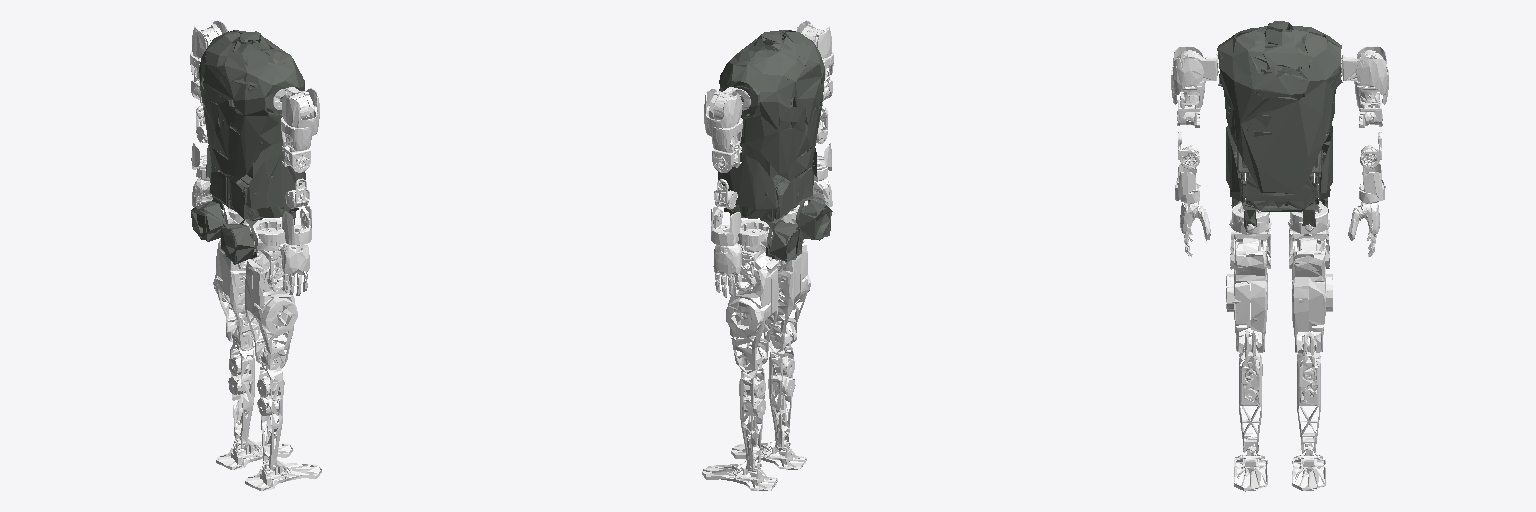
--- What the picture shows (computed from the rendered views, not written in the file) ---
The picture shows the robot from 3 angles, left to right: view 1: azimuth 30°, elevation 25°; view 2: azimuth 150°, elevation 25°; view 3: azimuth 270°, elevation 25°; orthographic projection.
Model biped_v3_full with 27 links and 26 joints (26 revolute), rooted at torso, posed all joints at 0.
Links seen in each view (by area): view 1: torso, leg_r3_link, leg_l3_link, leg_l4_link, leg_r4_link, zarm_r7_link, leg_r6_link, leg_l6_link, zarm_r2_link, leg_r1_link, zarm_l7_link, zarm_r1_link (+3 smaller); view 2: torso, leg_l3_link, leg_r3_link, leg_l4_link, leg_r4_link, zarm_l7_link, leg_l6_link, leg_r6_link, zarm_l2_link, leg_l1_link, zarm_r7_link, zarm_l1_link (+3 smaller); view 3: torso, leg_l3_link, leg_r3_link, leg_r4_link, leg_l4_link, zarm_l7_link, zarm_r7_link, leg_l6_link, leg_r6_link, zarm_r2_link, zarm_l2_link, leg_r1_link (+6 smaller).
Boxes of the visible links, x1,y1,x2,y2 form: torso: [191, 30, 305, 264]; leg_r3_link: [245, 254, 297, 371]; leg_l3_link: [213, 239, 260, 350]; leg_l4_link: [228, 322, 254, 448]; leg_r4_link: [257, 343, 284, 470]; zarm_r7_link: [281, 206, 311, 295]; leg_r6_link: [245, 459, 321, 490]; leg_l6_link: [216, 438, 292, 469]; zarm_r2_link: [282, 88, 319, 136]; leg_r1_link: [246, 219, 285, 251]; zarm_l7_link: [191, 143, 212, 207]; zarm_r1_link: [273, 87, 314, 119]; torso: [718, 30, 832, 261]; leg_l3_link: [726, 254, 778, 373]; leg_r3_link: [764, 240, 810, 352]; leg_l4_link: [739, 344, 765, 471]; leg_r4_link: [768, 323, 795, 450]; zarm_l7_link: [711, 206, 741, 297]; leg_l6_link: [702, 460, 777, 490]; leg_r6_link: [731, 440, 806, 469]; zarm_l2_link: [704, 89, 741, 136]; leg_l1_link: [737, 220, 772, 251]; zarm_r7_link: [806, 143, 832, 207]; zarm_l1_link: [709, 87, 750, 119]; torso: [1217, 21, 1342, 233]; leg_l3_link: [1292, 238, 1332, 352]; leg_r3_link: [1226, 238, 1267, 352]; leg_r4_link: [1239, 330, 1262, 453]; leg_l4_link: [1297, 331, 1320, 453]; zarm_l7_link: [1348, 163, 1385, 256]; zarm_r7_link: [1175, 162, 1210, 256]; leg_l6_link: [1292, 443, 1325, 490]; leg_r6_link: [1234, 444, 1267, 491]; zarm_r2_link: [1171, 46, 1203, 95]; zarm_l2_link: [1356, 46, 1388, 95]; leg_r1_link: [1229, 198, 1271, 235].
Bounding box of the posed robot: 0.3173 × 0.6499 × 1.45 m (x, y, z).
25 mesh visuals loaded from 27 distinct referenced files (25 binary STL); not drawn: 2 (reference not matched to a file when rendering).

The robot description file, URDF, robot "biped_v3_full":
<?xml version="1.0" ?>
<!-- =================================================================================== -->
<!-- |    This document was autogenerated by xacro from [local-path]/workspace/kuavo-ros-control/src/humanoid-control/humanoid_interface_drake/models/biped_gen4.2/urdf/biped_v3_full.xacro | -->
<!-- |    EDITING THIS FILE BY HAND IS NOT RECOMMENDED                                 | -->
<!-- =================================================================================== -->
<robot name="biped_v3_full" xmlns:drake="https://drake.mit.edu">
  <link name="torso">
    <inertial>
      <origin xyz="-0.0185005 0.00031952 0.1929569" rpy="0 0 0" />
      <mass value="24.13733803" />
      <inertia ixx="0.93103133" ixy="0.00011763" ixz="-0.07210993" iyy="0.82590532" iyz="6.88e-06" izz="0.27686612" />
    </inertial>
    <visual>
      <origin rpy="0 0 0" xyz="0 0 0"/>
      <geometry>
        <mesh filename="../../meshes/torso.STL"/>
      </geometry>
      <material name="">
        <color rgba="0.43137 0.45098 0.43137 1"/>
      </material>
    </visual>
    <!-- <collision>
      <origin xyz="0 0 0" rpy="0 0 0" />
      <geometry>
        <mesh filename="../../meshes/torso.STL" />
      </geometry>
    </collision> -->
  </link>
  <link name="leg_l1_link">
    <inertial>
      <origin xyz="-0.00430148 -2.708e-05 -0.00851195" rpy="0 0 0" />
      <mass value="1.71093115" />
      <inertia ixx="0.00206092" ixy="1.97e-06" ixz="6.944e-05" iyy="0.00277274" iyz="-5.1e-06" izz="0.00370826" />
    </inertial>
    <visual>
      <origin xyz="0 0 0" rpy="0 0 0" />
      <geometry>
        <mesh filename="../../meshes/l_leg_roll.STL" />
      </geometry>
      <material name="">
        <color rgba="1 1 1 1" />
      </material>
    </visual>
  </link>
  <joint name="leg_l1_joint" type="revolute">
    <origin xyz="-0.0024999 0.087 -0.066" rpy="0 0 0" />
    <parent link="torso" />
    <child link="leg_l1_link" />
    <axis xyz="1 0 0" />
    <limit lower="-0.314159265358979" upper="0.663225115757845" effort="180.0" velocity="23.55" />
  </joint>
  <transmission type="SimpleTransmission">
    <joint name="leg_l1_joint" />
    <actuator name="leg_l1_joint_motor" />
  </transmission>
  <link name="leg_l2_link">
    <inertial>
      <origin xyz="0.0 -0.00231118 -0.09062539" rpy="0 0 0" />
      <mass value="0.58029165" />
      <inertia ixx="0.00223984" ixy="0.0" ixz="3e-08" iyy="0.00123175" iyz="-6.98e-06" izz="0.00146391" />
    </inertial>
    <visual>
      <origin xyz="0 0 0" rpy="0 0 0" />
      <geometry>
        <mesh filename="../../meshes/l_leg_yaw.STL" />
      </geometry>
      <material name="">
        <color rgba="1 1 1 1" />
      </material>
    </visual>
  </link>
  <joint name="leg_l2_joint" type="revolute">
    <origin xyz="0 0 0" rpy="0 0 0" />
    <parent link="leg_l1_link" />
    <child link="leg_l2_link" />
    <axis xyz="0 0 1" />
    <limit lower="-0.872664625997165" upper="0.785398163397448" effort="100.0" velocity="41.3433333333333" />
  </joint>
  <transmission type="SimpleTransmission">
    <joint name="leg_l2_joint" />
    <actuator name="leg_l2_joint_motor" />
  </transmission>
  <link name="leg_l3_link">
    <inertial>
      <origin xyz="0.00150537 0.01199614 -0.08411619" rpy="0 0 0" />
      <mass value="4.50393141" />
      <inertia ixx="0.0389365" ixy="7.866e-05" ixz="0.00102086" iyy="0.03942609" iyz="0.00219138" izz="0.00999961" />
    </inertial>
    <visual>
      <origin xyz="0 0 0" rpy="0 0 0" />
      <geometry>
        <mesh filename="../../meshes/l_leg_pitch.STL" />
      </geometry>
      <material name="">
        <color rgba="1 1 1 1" />
      </material>
    </visual>
  </link>
  <joint name="leg_l3_joint" type="revolute">
    <origin xyz="0.000500354536093913 -0.00100000000000011 -0.1287" rpy="0 0 0" />
    <parent link="leg_l2_link" />
    <child link="leg_l3_link" />
    <axis xyz="0 1 0" />
    <limit lower="-2.00712863979348" upper="1.5707963267949" effort="100.0" velocity="41.3433333333333" />
  </joint>
  <transmission type="SimpleTransmission">
    <joint name="leg_l3_joint" />
    <actuator name="leg_l3_joint_motor" />
  </transmission>
  <link name="leg_l4_link">
    <inertial>
      <origin xyz="0.00696242 5.314e-05 -0.11549851" rpy="0 0 0" />
      <mass value="1.62776815" />
      <inertia ixx="0.01243912" ixy="-2.29e-06" ixz="5.881e-05" iyy="0.01229563" iyz="-2.895e-05" izz="0.00097937" />
    </inertial>
    <visual>
      <origin xyz="0 0 0" rpy="0 0 0" />
      <geometry>
        <mesh filename="../../meshes/l_knee.STL" />
      </geometry>
      <material name="">
        <color rgba="1 1 1 1" />
      </material>
    </visual>
  </link>
  <joint name="leg_l4_joint" type="revolute">
    <origin xyz="-6.87185435835039E-05 0 -0.284" rpy="0 0 0" />
    <parent link="leg_l3_link" />
    <child link="leg_l4_link" />
    <axis xyz="0 1 0" />
    <limit lower="0.0" upper="2.53072741539178" effort="180.0" velocity="23.55" />
  </joint>
  <transmission type="SimpleTransmission">
    <joint name="leg_l4_joint" />
    <actuator name="leg_l4_joint_motor" />
  </transmission>
  <link name="leg_l5_link">
    <inertial>
      <origin xyz="0.0 0.0 0.0" rpy="0 0 0" />
      <mass value="0.07193524" />
      <inertia ixx="6.92e-06" ixy="0.0" ixz="0.0" iyy="6.92e-06" iyz="0.0" izz="1.218e-05" />
    </inertial>
    <visual>
      <origin xyz="0 0 0" rpy="0 0 0" />
      <geometry>
        <mesh filename="../../meshes/l_foot_pitch.STL" />
      </geometry>
      <material name="">
        <color rgba="1 1 1 1" />
      </material>
    </visual>
  </link>
  <joint name="leg_l5_joint" type="revolute">
    <origin xyz="-0.000431635992531742 0 -0.346000000000001" rpy="0 0 0" />
    <parent link="leg_l4_link" />
    <child link="leg_l5_link" />
    <axis xyz="0 1 0" />
    <limit lower="-0.872664625997165" upper="0.349065850398866" effort="36.0" velocity="23.0266666666667" />
  </joint>
  <transmission type="SimpleTransmission">
    <joint name="leg_l5_joint" />
    <actuator name="leg_l5_joint_motor" />
  </transmission>
  <link name="leg_l6_link">
    <inertial>
      <origin xyz="0.03732754 -2.22e-06 -0.03883977" rpy="0 0 0" />
      <mass value="0.49861272" />
      <inertia ixx="0.00039242" ixy="3e-08" ixz="4.664e-05" iyy="0.00158655" iyz="0.0" izz="0.00172576" />
    </inertial>
    <visual>
      <origin xyz="0 0 0" rpy="0 0 0" />
      <geometry>
        <mesh filename="../../meshes/l_foot_roll.STL" />
      </geometry>
      <material name="">
        <color rgba="1 1 1 1" />
      </material>
    </visual>
  </link>
  <joint name="leg_l6_joint" type="revolute">
    <origin xyz="0 0 0" rpy="0 0 0" />
    <parent link="leg_l5_link" />
    <child link="leg_l6_link" />
    <axis xyz="1 0 0" />
    <limit lower="-0.261799387799149" upper="0.261799387799149" effort="36.0" velocity="23.0266666666667" />
  </joint>
  <transmission type="SimpleTransmission">
    <joint name="leg_l6_joint" />
    <actuator name="leg_l6_joint_motor" />
  </transmission>
  <!-- sssssssss -->
  <frame link="leg_l6_link" name="l_foot_sole" xyz="0.048838 0.0 -0.0593"/>
  <frame link="leg_l6_link" name="l_foot_toe" xyz="0.17084 0.0 -0.0593"/>
  <frame link="leg_l6_link" name="l_foot_heel" xyz="-0.073164 0.0 -0.0593"/>
  <link name="leg_r1_link">
    <inertial>
      <origin xyz="-0.00430146 2.709e-05 -0.00851195" rpy="0 0 0" />
      <mass value="1.71093008" />
      <inertia ixx="0.00206092" ixy="-1.97e-06" ixz="6.944e-05" iyy="0.00277274" iyz="5.1e-06" izz="0.00370826" />
    </inertial>
    <visual>
      <origin xyz="0 0 0" rpy="0 0 0" />
      <geometry>
        <mesh filename="../../meshes/r_leg_roll.STL" />
      </geometry>
      <material name="">
        <color rgba="1 1 1 1" />
      </material>
    </visual>
  </link>
  <joint name="leg_r1_joint" type="revolute">
    <origin xyz="-0.0024999 -0.087 -0.066" rpy="0 0 0" />
    <parent link="torso" />
    <child link="leg_r1_link" />
    <axis xyz="1 0 0" />
    <limit lower="-0.663225115757845" upper="0.314159265358979" effort="180.0" velocity="23.55" />
  </joint>
  <transmission type="SimpleTransmission">
    <joint name="leg_r1_joint" />
    <actuator name="leg_r1_joint_motor" />
  </transmission>
  <link name="leg_r2_link">
    <inertial>
      <origin xyz="0.0 0.00231118 -0.09062539" rpy="0 0 0" />
      <mass value="0.58029165" />
      <inertia ixx="0.00223984" ixy="0.0" ixz="-3e-08" iyy="0.00123175" iyz="6.98e-06" izz="0.00146391" />
    </inertial>
    <visual>
      <origin xyz="0 0 0" rpy="0 0 0" />
      <geometry>
        <mesh filename="../../meshes/r_leg_yaw.STL" />
      </geometry>
      <material name="">
        <color rgba="1 1 1 1" />
      </material>
    </visual>
  </link>
  <joint name="leg_r2_joint" type="revolute">
    <origin xyz="0 0 0" rpy="0 0 0" />
    <parent link="leg_r1_link" />
    <child link="leg_r2_link" />
    <axis xyz="0 0 1" />
    <limit lower="-0.785398163397448" upper="0.872664625997165" effort="100.0" velocity="41.3433333333333" />
  </joint>
  <transmission type="SimpleTransmission">
    <joint name="leg_r2_joint" />
    <actuator name="leg_r2_joint_motor" />
  </transmission>
  <link name="leg_r3_link">
    <inertial>
      <origin xyz="0.00208315 -0.01199644 -0.08411379" rpy="0 0 0" />
      <mass value="4.50385993" />
      <inertia ixx="0.03893478" ixy="-7.792e-05" ixz="0.00103064" iyy="0.03942522" iyz="-0.00219154" izz="0.01000016" />
    </inertial>
    <visual>
      <origin xyz="0 0 0" rpy="0 0 0" />
      <geometry>
        <mesh filename="../../meshes/r_leg_pitch.STL" />
      </geometry>
      <material name="">
        <color rgba="1 1 1 1" />
      </material>
    </visual>
  </link>
  <joint name="leg_r3_joint" type="revolute">
    <origin xyz="-4.88006581312577E-05 0 -0.1287" rpy="0 0 0" />
    <parent link="leg_r2_link" />
    <child link="leg_r3_link" />
    <axis xyz="0 1 0" />
    <limit lower="-2.00712863979348" upper="1.5707963267949" effort="100.0" velocity="41.3433333333333" />
  </joint>
  <transmission type="SimpleTransmission">
    <joint name="leg_r3_joint" />
    <actuator name="leg_r3_joint_motor" />
  </transmission>
  <link name="leg_r4_link">
    <inertial>
      <origin xyz="0.00743231 -5.343e-05 -0.11558701" rpy="0 0 0" />
      <mass value="1.62655699" />
      <inertia ixx="0.01241258" ixy="2.28e-06" ixz="6.289e-05" iyy="0.0122692" iyz="2.902e-05" izz="0.00097927" />
    </inertial>
    <visual>
      <origin xyz="0 0 0" rpy="0 0 0" />
      <geometry>
        <mesh filename="../../meshes/r_knee.STL" />
      </geometry>
      <material name="">
        <color rgba="1 1 1 1" />
      </material>
    </visual>
  </link>
  <joint name="leg_r4_joint" type="revolute">
    <origin xyz="0.000147138572785148 0 -0.283999982974744" rpy="0 0 0" />
    <parent link="leg_r3_link" />
    <child link="leg_r4_link" />
    <axis xyz="0 1 0" />
    <limit lower="0.0" upper="2.53072741539178" effort="180.0" velocity="23.55" />
  </joint>
  <transmission type="SimpleTransmission">
    <joint name="leg_r4_joint" />
    <actuator name="leg_r4_joint_motor" />
  </transmission>
  <link name="leg_r5_link">
    <inertial>
      <origin xyz="0.0 0.0 0.0" rpy="0 0 0" />
      <mass value="0.07193524" />
      <inertia ixx="6.92e-06" ixy="0.0" ixz="0.0" iyy="6.92e-06" iyz="0.0" izz="1.218e-05" />
    </inertial>
    <visual>
      <origin xyz="0 0 0" rpy="0 0 0" />
      <geometry>
        <mesh filename="../../meshes/r_foot_pitch.STL" />
      </geometry>
      <material name="">
        <color rgba="1 1 1 1" />
      </material>
    </visual>
  </link>
  <joint name="leg_r5_joint" type="revolute">
    <origin xyz="0.000119806050928577 0 -0.345999979257963" rpy="0 0 0" />
    <parent link="leg_r4_link" />
    <child link="leg_r5_link" />
    <axis xyz="0 1 0" />
    <limit lower="-0.872664625997165" upper="0.349065850398866" effort="36.0" velocity="23.0266666666667" />
  </joint>
  <transmission type="SimpleTransmission">
    <joint name="leg_r5_joint" />
    <actuator name="leg_r5_joint_motor" />
  </transmission>
  <link name="leg_r6_link">
    <inertial>
      <origin xyz="0.03734098 -2.22e-06 -0.03882684" rpy="0 0 0" />
      <mass value="0.49861272" />
      <inertia ixx="0.00039238" ixy="3e-08" ixz="4.618e-05" iyy="0.00158655" iyz="0.0" izz="0.00172579" />
    </inertial>
    <visual>
      <origin xyz="0 0 0" rpy="0 0 0" />
      <geometry>
        <mesh filename="../../meshes/r_foot_roll.STL" />
      </geometry>
      <material name="">
        <color rgba="1 1 1 1" />
      </material>
    </visual>
  </link>
  <joint name="leg_r6_joint" type="revolute">
    <origin xyz="0 0 0" rpy="0 0 0" />
    <parent link="leg_r5_link" />
    <child link="leg_r6_link" />
    <axis xyz="1 0 0" />
    <limit lower="-0.261799387799149" upper="0.261799387799149" effort="36.0" velocity="23.0266666666667" />
  </joint>
  <transmission type="SimpleTransmission">
    <joint name="leg_r6_joint" />
    <actuator name="leg_r6_joint_motor" />
  </transmission>
  <!-- sssssssss -->
  <frame link="leg_r6_link" name="r_foot_sole" xyz="0.048838 0.0 -0.0593"/>
  <frame link="leg_r6_link" name="r_foot_toe" xyz="0.17084 0.0 -0.0593"/>
  <frame link="leg_r6_link" name="r_foot_heel" xyz="-0.073164 0.0 -0.0593"/>
  <!-- =========================================================== Arms ================================================================= -->
  <link name="zarm_l1_link">
    <inertial>
      <origin xyz="0.008 -0.00158 0.0036" rpy="0 0 0" />
      <mass value="1.15" />
      <inertia ixx="0.0006" ixy="5e-05" ixz="1e-05" iyy="0.00048" iyz="-6e-05" izz="0.0007" />
    </inertial>
    <visual>
      <origin xyz="0 0 0" rpy="0 0 0" />
      <geometry>
        <mesh filename="../../meshes/l_arm_pitch.STL" />
      </geometry>
      <material name="">
        <color rgba="1 1 1 1" />
      </material>
    </visual>
  </link>
  <joint name="zarm_l1_joint" type="revolute">
    <origin xyz="-0.017499853 0.26686 0.4245" rpy="0 0 0" />
    <parent link="torso" />
    <child link="zarm_l1_link" />
    <axis xyz="0 1 0" />
    <limit lower="-2.61799387799149" upper="0.523598775598299" effort="100.0" velocity="41.3433333333333" />
  </joint>
  <transmission type="SimpleTransmission">
    <joint name="zarm_l1_joint" />
    <actuator name="zarm_l1_joint_motor" />
  </transmission>
  <link name="zarm_l2_link">
    <inertial>
      <origin xyz="0.00144 0.02159 -0.0202" rpy="0 0 0" />
      <mass value="0.226" />
      <inertia ixx="0.0003" ixy="3e-05" ixz="1e-05" iyy="0.00061" iyz="5e-05" izz="0.00057" />
    </inertial>
    <visual>
      <origin xyz="0 0 0" rpy="0 0 0" />
      <geometry>
        <mesh filename="../../meshes/l_arm_roll.STL" />
      </geometry>
      <material name="">
        <color rgba="1 1 1 1" />
      </material>
    </visual>
  </link>
  <joint name="zarm_l2_joint" type="revolute">
    <origin xyz="0 0 0" rpy="0 0 0" />
    <parent link="zarm_l1_link" />
    <child link="zarm_l2_link" />
    <axis xyz="1 0 0" />
    <limit lower="-0.349065850398866" upper="2.0943951023932" effort="50.0" velocity="19.154" />
  </joint>
  <transmission type="SimpleTransmission">
    <joint name="zarm_l2_joint" />
    <actuator name="zarm_l2_joint_motor" />
  </transmission>
  <link name="zarm_l3_link">
    <inertial>
      <origin xyz="-0.00157 -3e-05 -0.13318" rpy="0 0 0" />
      <mass value="1.166" />
      <inertia ixx="0.00245" ixy="-1e-05" ixz="-1e-05" iyy="0.0022" iyz="0.0" izz="0.00112" />
    </inertial>
    <visual>
      <origin xyz="0 0 0" rpy="0 0 0" />
      <geometry>
        <mesh filename="../../meshes/l_arm_yaw.STL" />
      </geometry>
      <material name="">
        <color rgba="1 1 1 1" />
      </material>
    </visual>
  </link>
  <joint name="zarm_l3_joint" type="revolute">
    <origin xyz="0 0 0" rpy="0 0 0" />
    <parent link="zarm_l2_link" />
    <child link="zarm_l3_link" />
    <axis xyz="0 0 1" />
    <limit lower="-1.5707963267949" upper="1.5707963267949" effort="20.0" velocity="18.84" />
  </joint>
  <transmission type="SimpleTransmission">
    <joint name="zarm_l3_joint" />
    <actuator name="zarm_l3_joint_motor" />
  </transmission>
  <link name="zarm_l4_link">
    <inertial>
      <origin xyz="-4e-05 0.0098 -0.05283" rpy="0 0 0" />
      <mass value="0.575" />
      <inertia ixx="0.00098" ixy="0.0" ixz="0.0" iyy="0.00062" iyz="-0.00016" izz="0.00088" />
    </inertial>
    <visual>
      <origin xyz="0 0 0" rpy="0 0 0" />
      <geometry>
        <mesh filename="../../meshes/l_forearm.STL" />
      </geometry>
      <material name="">
        <color rgba="1 1 1 1" />
      </material>
    </visual>
  </link>
  <joint name="zarm_l4_joint" type="revolute">
    <origin xyz="0 0 -0.1646" rpy="0 0 0" />
    <parent link="zarm_l3_link" />
    <child link="zarm_l4_link" />
    <axis xyz="0 1 0" />
    <limit lower="-1.5707963267949" upper="0.0" effort="20.0" velocity="18.84" />
  </joint>
  <transmission type="SimpleTransmission">
    <joint name="zarm_l4_joint" />
    <actuator name="zarm_l4_joint_motor" />
  </transmission>
  <link name="zarm_l5_link">
    <inertial>
      <origin xyz="-0.00011 0.00421 -0.11168" rpy="0 0 0" />
      <mass value="0.46" />
      <inertia ixx="0.00077" ixy="0.0" ixz="0.0" iyy="0.0005" iyz="-4e-05" izz="0.00063" />
    </inertial>
    <visual>
      <origin xyz="0 0 0" rpy="0 0 0" />
      <geometry>
        <mesh filename="../../meshes/l_hand_yaw.STL" />
      </geometry>
      <material name="">
        <color rgba="1 1 1 1" />
      </material>
    </visual>
  </link>
  <joint name="zarm_l5_joint" type="revolute">
    <origin xyz="0 0 0" rpy="0 0 0" />
    <parent link="zarm_l4_link" />
    <child link="zarm_l5_link" />
    <axis xyz="0 0 1" />
    <limit lower="-1.5707963267949" upper="1.5707963267949" effort="6.0" velocity="21.666" />
  </joint>
  <transmission type="SimpleTransmission">
    <joint name="zarm_l5_joint" />
    <actuator name="zarm_l5_joint_motor" />
  </transmission>
  <link name="zarm_l6_link">
    <inertial>
      <origin xyz="0.00253 0.00382 -0.05356" rpy="0 0 0" />
      <mass value="0.35" />
      <inertia ixx="0.00023" ixy="0.0" ixz="0.0" iyy="0.00024" iyz="-4e-05" izz="0.00019" />
    </inertial>
    <visual>
      <origin xyz="0 0 0" rpy="0 0 0" />
      <geometry>
        <mesh filename="../../meshes/l_hand_pitch.STL" />
      </geometry>
      <material name="">
        <color rgba="1 1 1 1" />
      </material>
    </visual>
  </link>
  <joint name="zarm_l6_joint" type="revolute">
    <origin xyz="0 0 -0.132050000125748" rpy="0 0 0" />
    <parent link="zarm_l5_link" />
    <child link="zarm_l6_link" />
    <axis xyz="0 1 0" />
    <limit lower="-1.5707963267949" upper="1.5707963267949" effort="6.0" velocity="21.666" />
  </joint>
  <transmission type="SimpleTransmission">
    <joint name="zarm_l6_joint" />
    <actuator name="zarm_l6_joint_motor" />
  </transmission>
  <link name="zarm_l7_link">
    <inertial>
      <origin xyz="0.00267 0.00748 -0.07162" rpy="0 0 0" />
      <mass value="0.81" />
      <inertia ixx="0.00117" ixy="2e-05" ixz="0.0" iyy="0.00128" iyz="-2e-05" izz="0.00036" />
    </inertial>
    <visual>
      <origin xyz="0 0 0" rpy="0 0 0" />
      <geometry>
        <mesh filename="../../meshes/l_hand_roll.STL" />
      </geometry>
      <material name="">
        <color rgba="1 1 1 1" />
      </material>
    </visual>
  </link>
  <joint name="zarm_l7_joint" type="revolute">
    <origin xyz="0 0 -0.0589999999999999" rpy="0 0 0" />
    <parent link="zarm_l6_link" />
    <child link="zarm_l7_link" />
    <axis xyz="1 0 0" />
    <limit lower="-1.5707963267949" upper="1.5707963267949" effort="6.0" velocity="21.666" />
  </joint>
  <transmission type="SimpleTransmission">
    <joint name="zarm_l7_joint" />
    <actuator name="zarm_l7_joint_motor" />
  </transmission>
  <!-- right arm -->
  <link name="zarm_r1_link">
    <inertial>
      <origin xyz="0.008 0.00158 -0.0036" rpy="0 0 0" />
      <mass value="1.15" />
      <inertia ixx="0.0006" ixy="-5e-05" ixz="-1e-05" iyy="0.00048" iyz="-6e-05" izz="0.0007" />
    </inertial>
    <visual>
      <origin xyz="0 0 0" rpy="0 0 0" />
      <geometry>
        <mesh filename="../../meshes/r_arm_pitch.STL" />
      </geometry>
      <material name="">
        <color rgba="1 1 1 1" />
      </material>
    </visual>
  </link>
  <joint name="zarm_r1_joint" type="revolute">
    <origin xyz="-0.017499853 -0.26686 0.4245" rpy="0 0 0" />
    <parent link="torso" />
    <child link="zarm_r1_link" />
    <axis xyz="0 1 0" />
    <limit lower="-2.61799387799149" upper="0.523598775598299" effort="100.0" velocity="41.3433333333333" />
  </joint>
  <transmission type="SimpleTransmission">
    <joint name="zarm_r1_joint" />
    <actuator name="zarm_r1_joint_motor" />
  </transmission>
  <link name="zarm_r2_link">
    <inertial>
      <origin xyz="0.00144 -0.02159 -0.02021" rpy="0 0 0" />
      <mass value="0.226" />
      <inertia ixx="0.0003" ixy="-3e-05" ixz="1e-05" iyy="0.00061" iyz="-5e-05" izz="0.00057" />
    </inertial>
    <visual>
      <origin xyz="0 0 0" rpy="0 0 0" />
      <geometry>
        <mesh filename="../../meshes/r_arm_roll.STL" />
      </geometry>
      <material name="">
        <color rgba="1 1 1 1" />
      </material>
    </visual>
  </link>
  <joint name="zarm_r2_joint" type="revolute">
    <origin xyz="0 0 0" rpy="0 0 0" />
    <parent link="zarm_r1_link" />
    <child link="zarm_r2_link" />
    <axis xyz="1 0 0" />
    <limit lower="-2.0943951023932" upper="0.349065850398866" effort="50.0" velocity="19.154" />
  </joint>
  <transmission type="SimpleTransmission">
    <joint name="zarm_r2_joint" />
    <actuator name="zarm_r2_joint_motor" />
  </transmission>
  <link name="zarm_r3_link">
    <inertial>
      <origin xyz="-0.00157 3e-05 -0.13318" rpy="0 0 0" />
      <mass value="1.166" />
      <inertia ixx="0.00245" ixy="1e-05" ixz="-1e-05" iyy="0.0022" iyz="0.0" izz="0.00112" />
    </inertial>
    <visual>
      <origin xyz="0 0 0" rpy="0 0 0" />
      <geometry>
        <mesh filename="../../meshes/r_arm_yaw.STL" />
      </geometry>
      <material name="">
        <color rgba="1 1 1 1" />
      </material>
    </visual>
  </link>
  <joint name="zarm_r3_joint" type="revolute">
    <origin xyz="0 0 0" rpy="0 0 0" />
    <parent link="zarm_r2_link" />
    <child link="zarm_r3_link" />
    <axis xyz="0 0 1" />
    <limit lower="-1.5707963267949" upper="1.5707963267949" effort="20.0" velocity="18.84" />
  </joint>
  <transmission type="SimpleTransmission">
    <joint name="zarm_r3_joint" />
    <actuator name="zarm_r3_joint_motor" />
  </transmission>
  <link name="zarm_r4_link">
    <inertial>
      <origin xyz="-4e-05 -0.0098 -0.05283" rpy="0 0 0" />
      <mass value="0.575" />
      <inertia ixx="0.00098" ixy="0.0" ixz="0.0" iyy="0.00062" iyz="0.00016" izz="0.00088" />
    </inertial>
    <visual>
      <origin xyz="0 0 0" rpy="0 0 0" />
      <geometry>
        <mesh filename="../../meshes/r_forearm.STL" />
      </geometry>
      <material name="">
        <color rgba="1 1 1 1" />
      </material>
    </visual>
  </link>
  <joint name="zarm_r4_joint" type="revolute">
    <origin xyz="0 0 -0.1646" rpy="0 0 0" />
    <parent link="zarm_r3_link" />
    <child link="zarm_r4_link" />
    <axis xyz="0 1 0" />
    <limit lower="-1.5707963267949" upper="0.0" effort="20.0" velocity="18.84" />
  </joint>
  <transmission type="SimpleTransmission">
    <joint name="zarm_r4_joint" />
    <actuator name="zarm_r4_joint_motor" />
  </transmission>
  <link name="zarm_r5_link">
    <inertial>
      <origin xyz="-0.00011 -0.00421 -0.11168" rpy="0 0 0" />
      <mass value="0.46" />
      <inertia ixx="0.00077" ixy="0.0" ixz="0.0" iyy="0.0005" iyz="4e-05" izz="0.00063" />
    </inertial>
    <visual>
      <origin xyz="0 0 0" rpy="0 0 0" />
      <geometry>
        <mesh filename="../../meshes/r_hand_yaw.STL" />
      </geometry>
      <material name="">
        <color rgba="1 1 1 1" />
      </material>
    </visual>
  </link>
  <joint name="zarm_r5_joint" type="revolute">
    <origin xyz="0 0 0" rpy="0 0 0" />
    <parent link="zarm_r4_link" />
    <child link="zarm_r5_link" />
    <axis xyz="0 0 1" />
    <limit lower="-1.5707963267949" upper="1.5707963267949" effort="6.0" velocity="21.666" />
  </joint>
  <transmission type="SimpleTransmission">
    <joint name="zarm_r5_joint" />
    <actuator name="zarm_r5_joint_motor" />
  </transmission>
  <link name="zarm_r6_link">
    <inertial>
      <origin xyz="0.00253 -0.00382 -0.05356" rpy="0 0 0" />
      <mass value="0.35" />
      <inertia ixx="0.00023" ixy="0.0" ixz="0.0" iyy="0.00024" iyz="4e-05" izz="0.00019" />
    </inertial>
    <visual>
      <origin xyz="0 0 0" rpy="0 0 0" />
      <geometry>
        <mesh filename="../../meshes/r_hand_pitch.STL" />
      </geometry>
      <material name="">
        <color rgba="1 1 1 1" />
      </material>
    </visual>
  </link>
  <joint name="zarm_r6_joint" type="revolute">
    <origin xyz="0 0 -0.132050000240097" rpy="0 0 0" />
    <parent link="zarm_r5_link" />
    <child link="zarm_r6_link" />
    <axis xyz="0 1 0" />
    <limit lower="-1.5707963267949" upper="1.5707963267949" effort="6.0" velocity="21.666" />
  </joint>
  <transmission type="SimpleTransmission">
    <joint name="zarm_r6_joint" />
    <actuator name="zarm_r6_joint_motor" />
  </transmission>
  <link name="zarm_r7_link">
    <inertial>
      <origin xyz="0.00267 -0.00748 -0.07162" rpy="0 0 0" />
      <mass value="0.81" />
      <inertia ixx="0.00098" ixy="-1e-05" ixz="1e-05" iyy="0.00104" iyz="1e-05" izz="0.00027" />
    </inertial>
    <visual>
      <origin xyz="0 0 0" rpy="0 0 0" />
      <geometry>
        <mesh filename="../../meshes/r_hand_roll.STL" />
      </geometry>
      <material name="">
        <color rgba="1 1 1 1" />
      </material>
    </visual>
  </link>
  <joint name="zarm_r7_joint" type="revolute">
    <origin xyz="0 0 -0.0589999999999999" rpy="0 0 0" />
    <parent link="zarm_r6_link" />
    <child link="zarm_r7_link" />
    <axis xyz="1 0 0" />
    <limit lower="-1.5707963267949" upper="1.5707963267949" effort="6.0" velocity="21.666" />
  </joint>
  <transmission type="SimpleTransmission">
    <joint name="zarm_r7_joint" />
    <actuator name="zarm_r7_joint_motor" />
  </transmission>
  <!-- end frame -->
  <!-- <frame link="l_hand_pitch" name="l_hand_sole" xyz="0 0 -0.1" /> -->
  <!-- end frame -->
  <!-- <frame link="r_hand_pitch" name="r_hand_sole" xyz="0 0 -0.1" /> -->
</robot>
